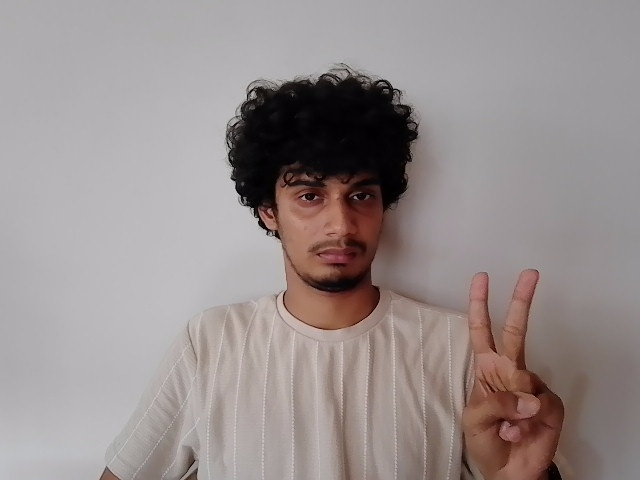travel: (451, 268, 568, 475)
